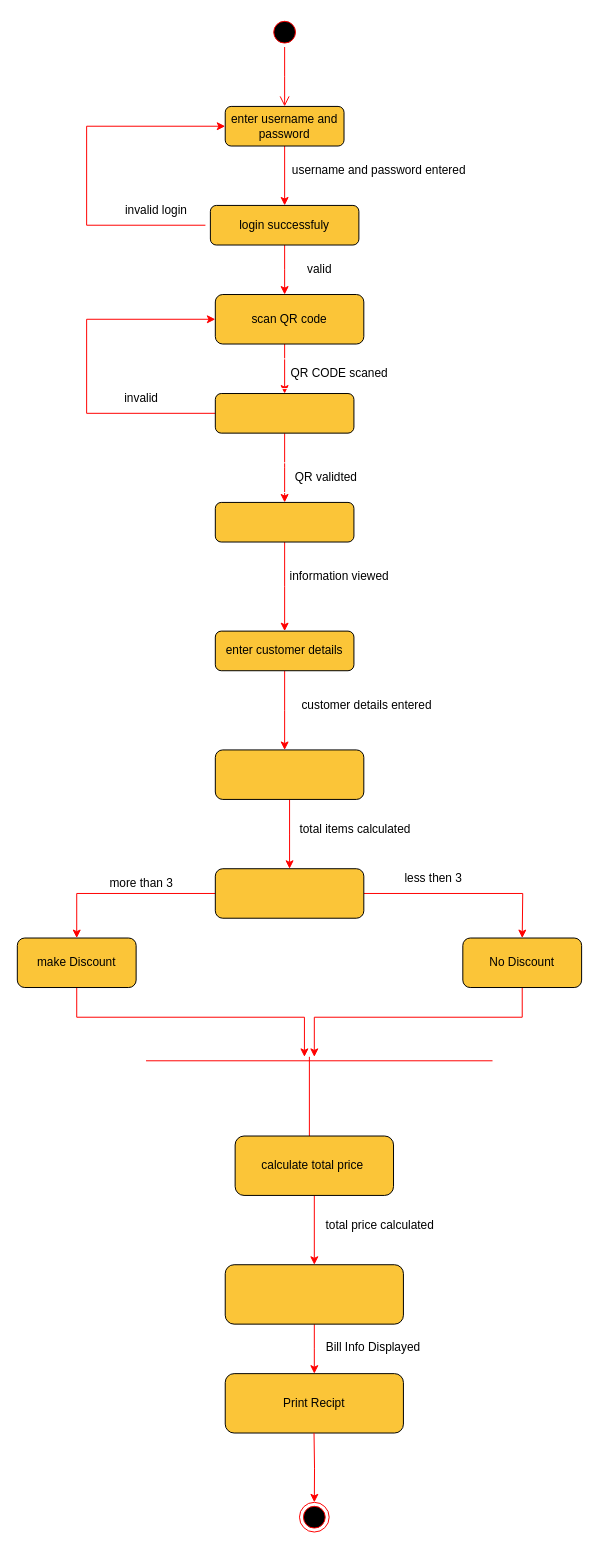
Image size: 599x1549. Some labels were removed from this diagram. The shapes that lost their labels are listed below. From the top down, each one's centre as x and y in pixels, then its label:
At point (284, 413): "validate QR code".
At point (284, 521): "view information about garments".
At point (289, 774): "calculate total items".
At point (289, 893): "calculate pieces".
At point (313, 1294): "Display Bill info".
